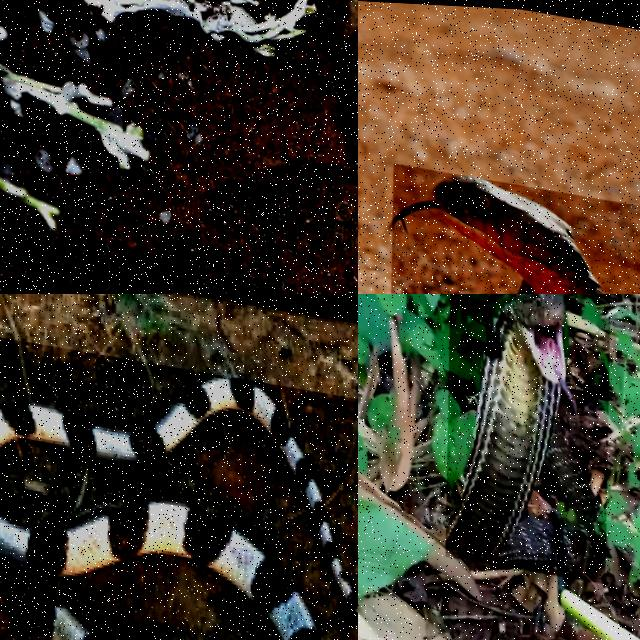Bungarus candidus: (0, 377, 357, 615)
Naja kaouthia: (337, 0, 357, 173)
Ophiophagus hannah: (445, 294, 605, 569), (394, 177, 602, 293)
snake: (0, 377, 357, 615), (445, 294, 605, 569), (394, 177, 602, 293), (337, 0, 357, 173)
